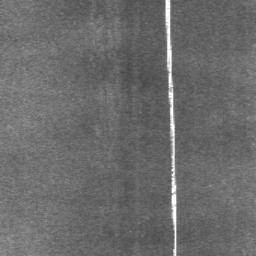Bright scratch: (165, 0, 177, 256)
